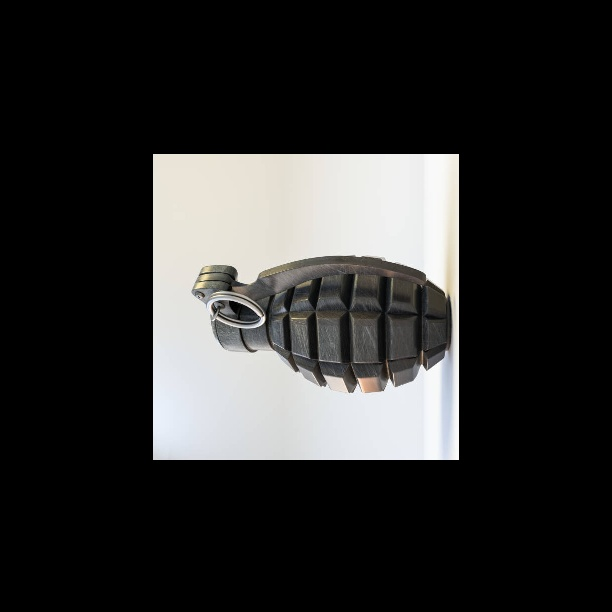e1: (193, 256, 456, 394)
